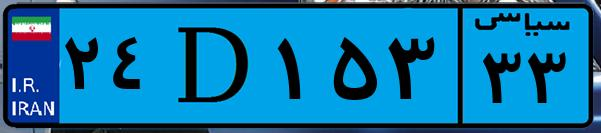1: (270, 28, 330, 110)
2: (57, 26, 110, 100)
3: (385, 28, 445, 110), (475, 38, 525, 113), (525, 38, 570, 115)
4: (110, 28, 158, 98)
5: (330, 28, 385, 110)
D: (158, 12, 270, 120)
